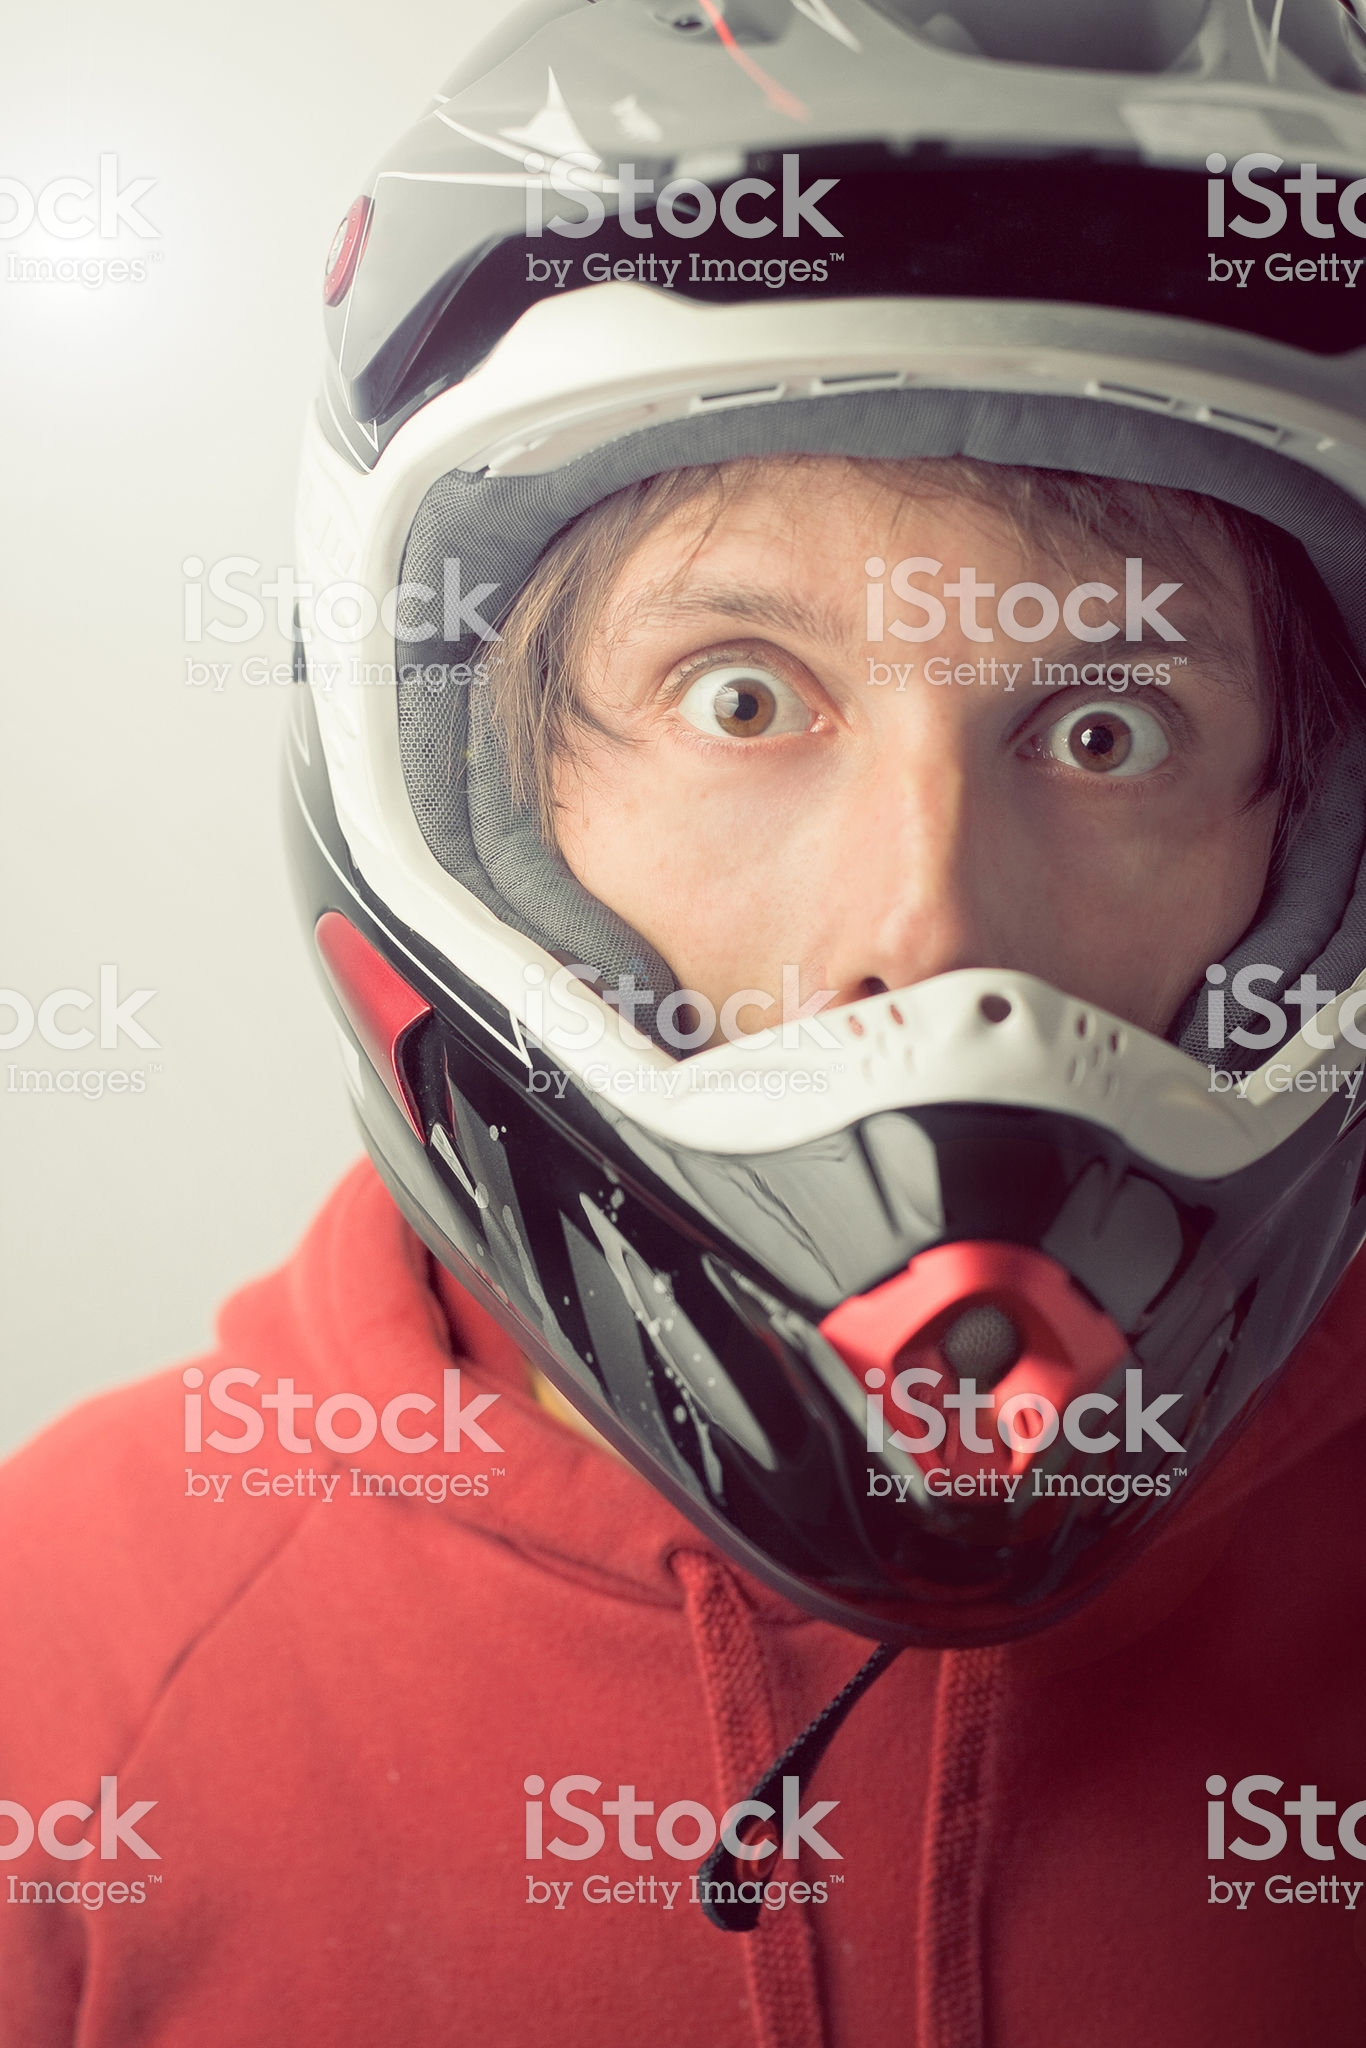helmet: (258, 50, 1366, 1589)
